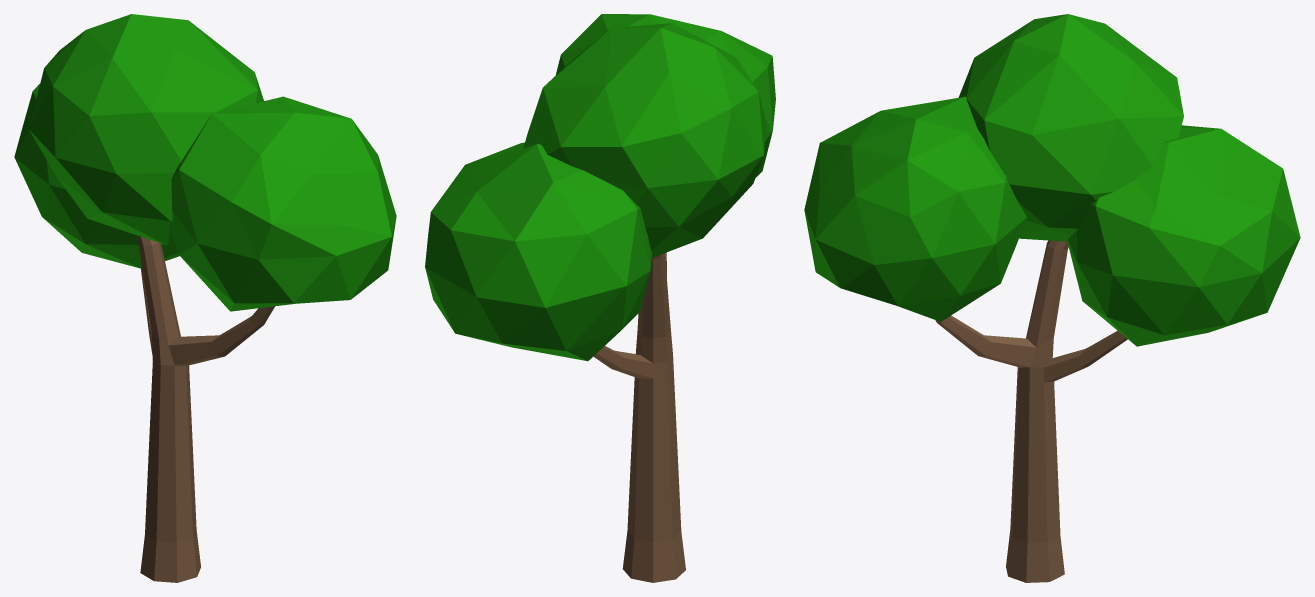
Rendered from tree.glb.
3 renders of one model, left to right at view 1: azimuth 30°, elevation 25°; view 2: azimuth 150°, elevation 25°; view 3: azimuth 270°, elevation 25°, orthographic. The views are drawn at different scales.
Parts seen in each view (by area): view 1: Tree; view 2: Tree; view 3: Tree.
Boxes of the visible parts, x1,y1,x2,y2 form: Tree: [14, 14, 396, 582]; Tree: [425, 14, 775, 582]; Tree: [804, 14, 1300, 582].
Bounding box in the file's own units: 2.63 × 5.2 × 4.29.
1 material, 1 textured.
